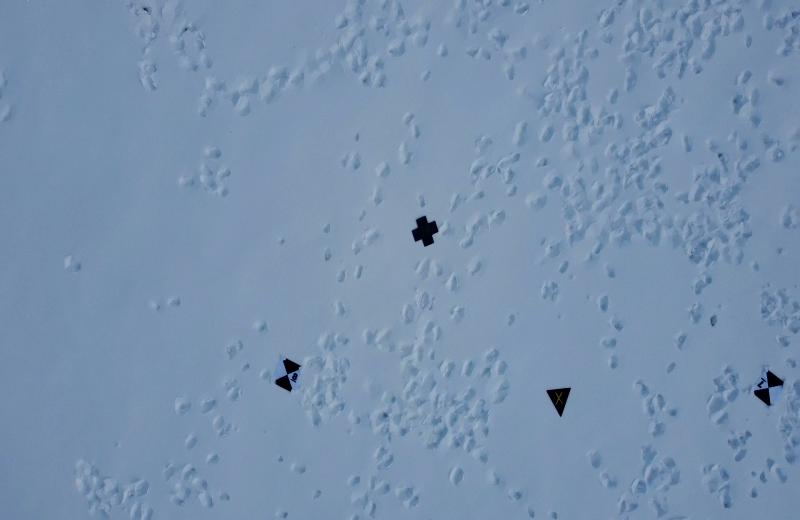Cross: (408, 212, 440, 248)
Triangle: (542, 386, 572, 420)
